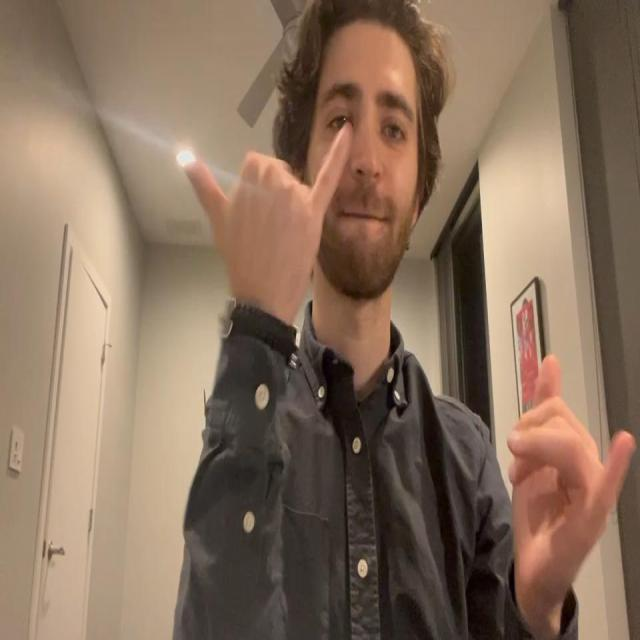face: (306, 45, 421, 301)
